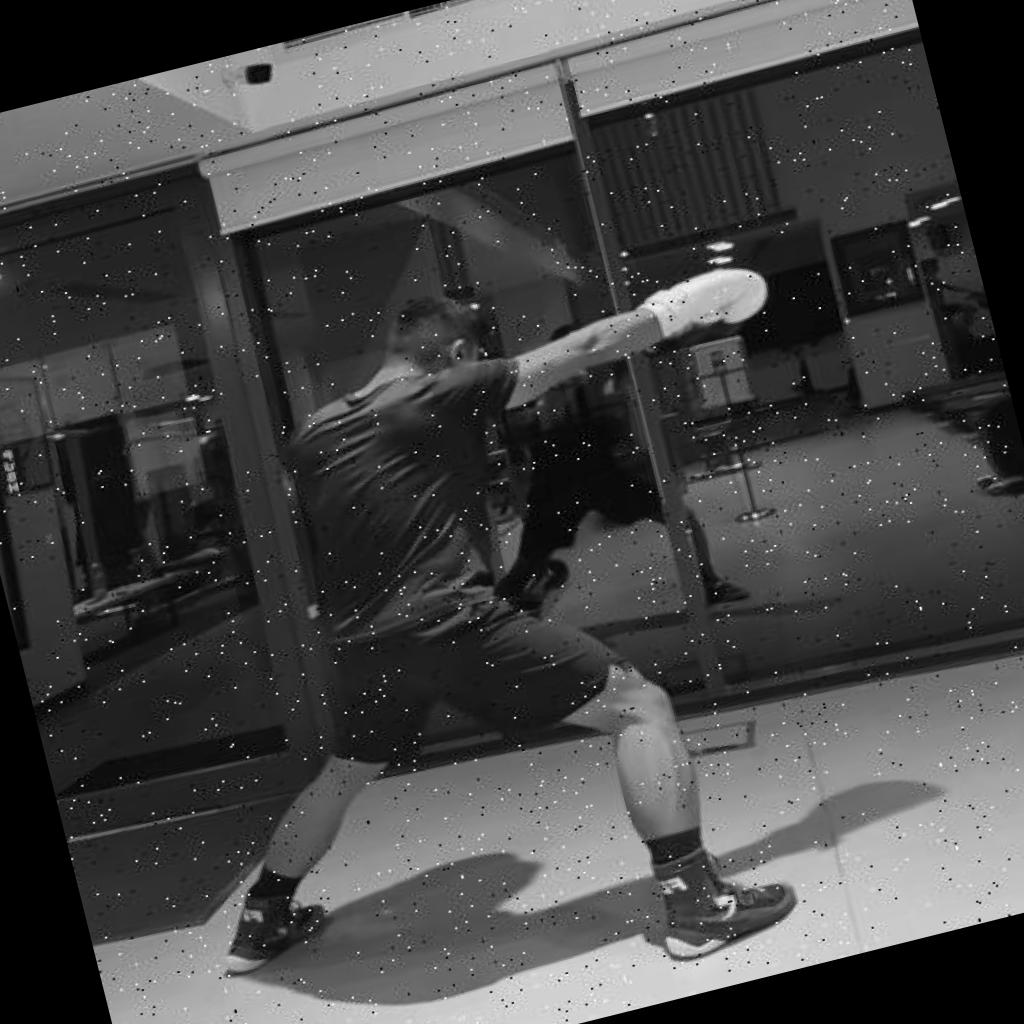jab: (79, 203, 930, 1024)
